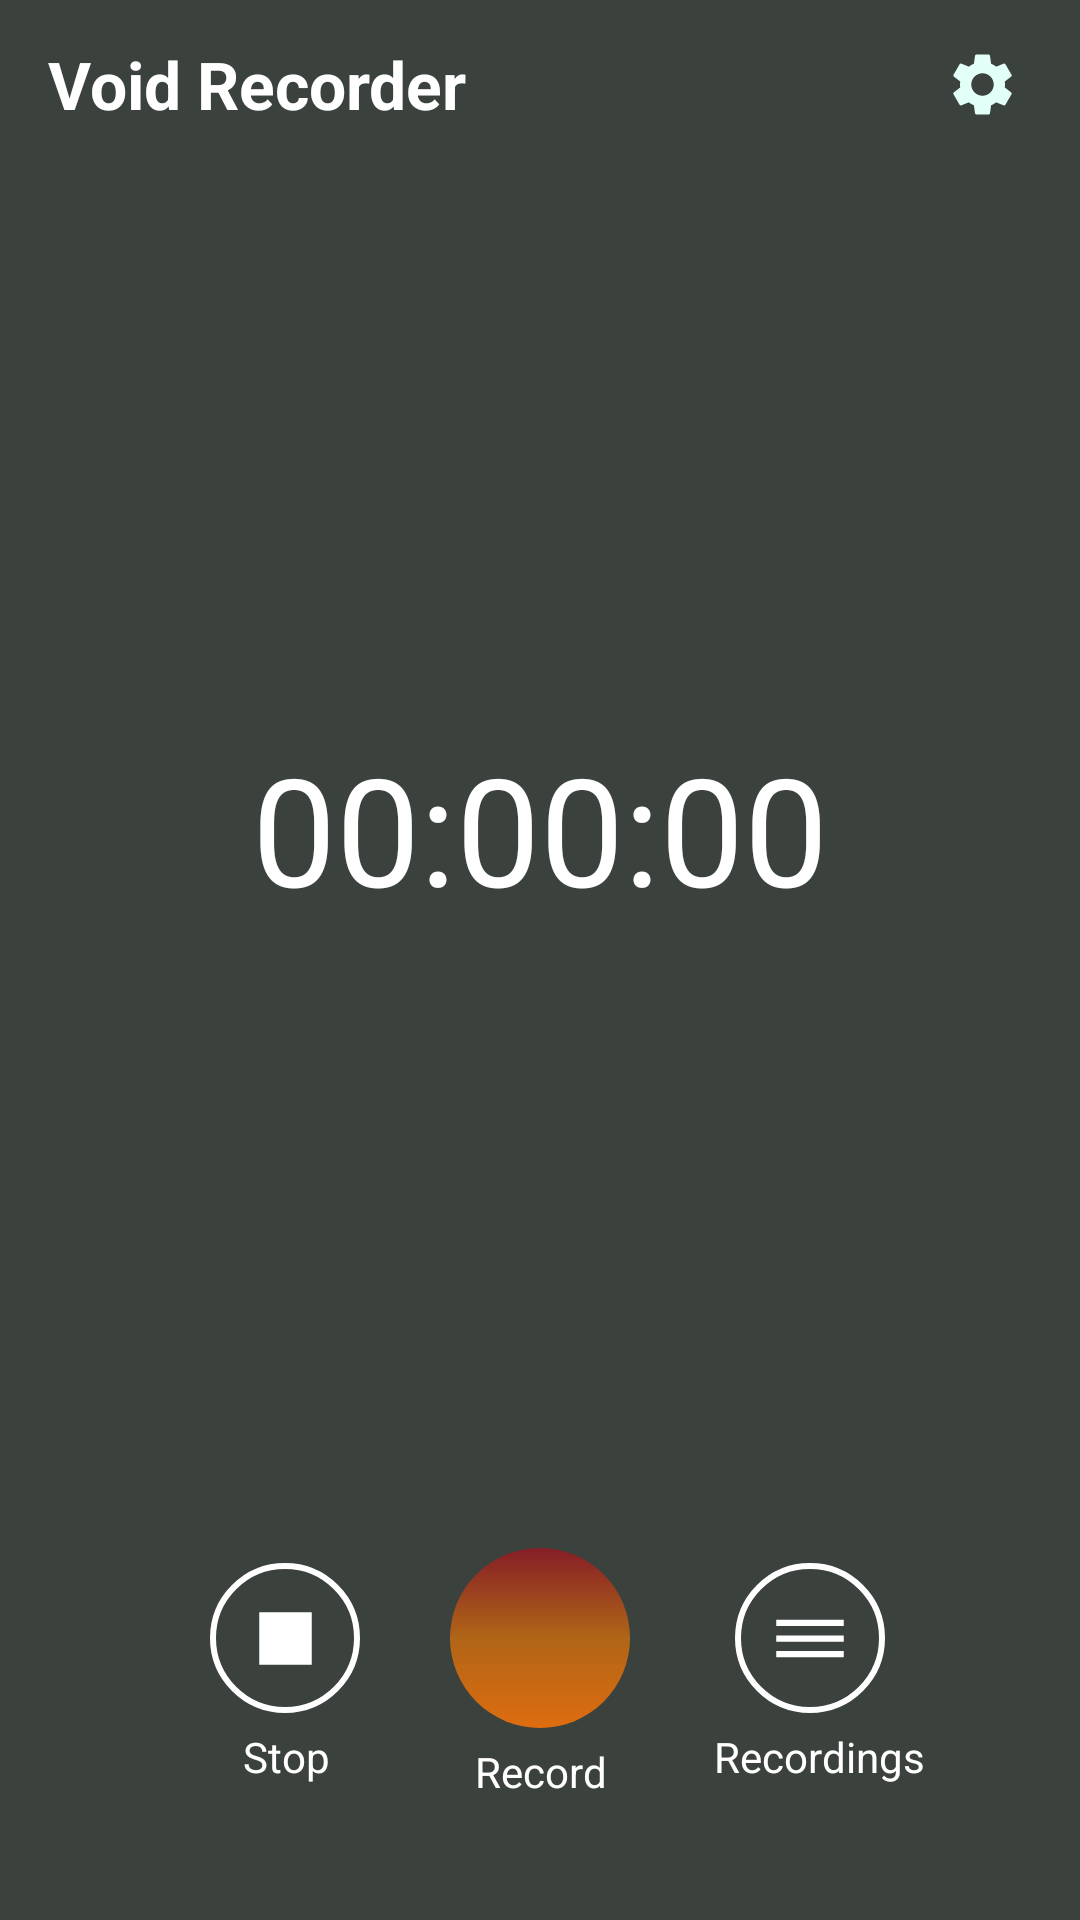

Named icons in this screenshot (1080px x 1920px) and their centers, (x,y):
menu: (810,1638)
settings: (982,84)
